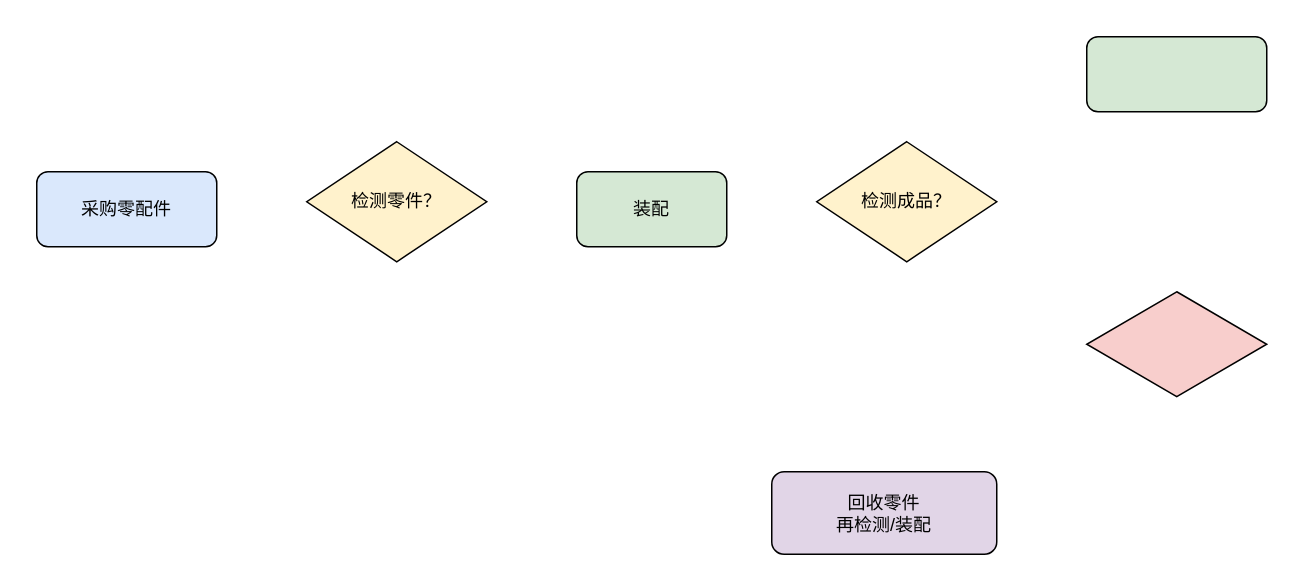
Some shapes in this 1293 by 581 pixel diagram are drawn without their labels. The box of each missing label's shape, as (x1, y1, x2, y2) in pixels:
拆解或报废: (1085, 290, 1267, 397)
销售/调换: (1085, 35, 1267, 112)
